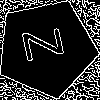Z: (21, 23, 74, 63)
